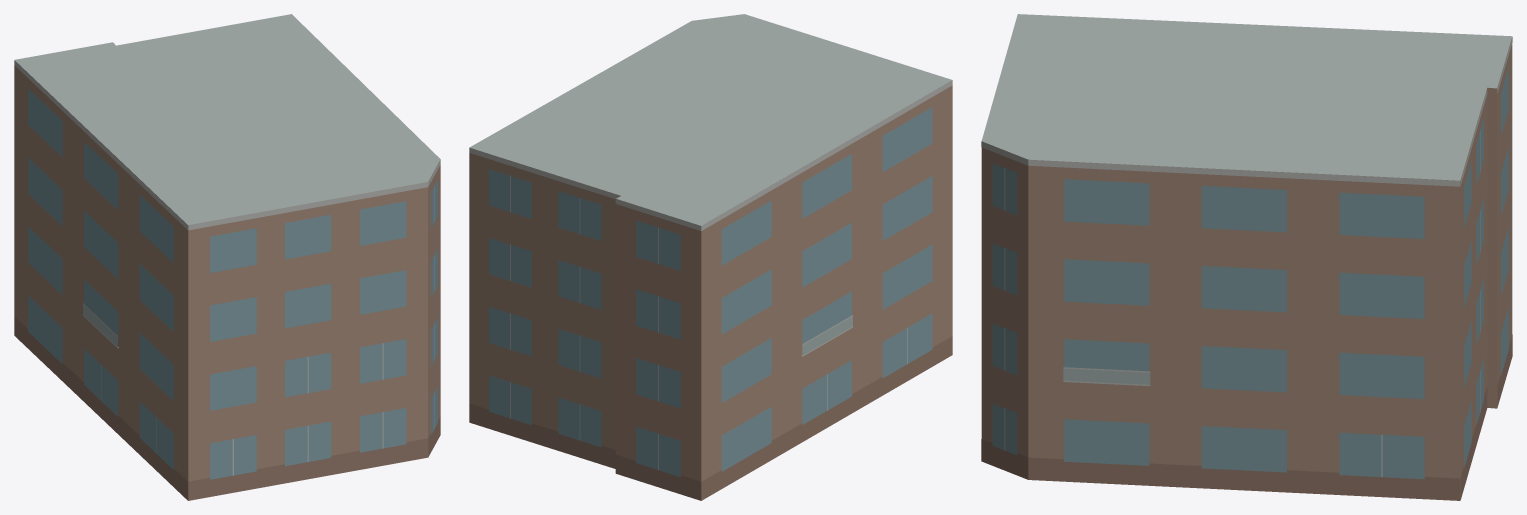
Rendered from survey-upis-32500577.glb.
The picture shows the model from 3 angles, left to right: view 1: azimuth 30°, elevation 25°; view 2: azimuth 150°, elevation 25°; view 3: azimuth 270°, elevation 25°; orthographic projection. The views are drawn at different scales.
Parts seen in each view (by area): view 1: survey-upis-32500577.tmp; view 2: survey-upis-32500577.tmp; view 3: survey-upis-32500577.tmp.
Boxes of the visible parts, bbox=[...] form: survey-upis-32500577.tmp: bbox=[14, 14, 440, 500]; survey-upis-32500577.tmp: bbox=[469, 14, 952, 500]; survey-upis-32500577.tmp: bbox=[981, 14, 1512, 500].
Size of the model in its own units: 14.41 by 12.9 by 19.4.
